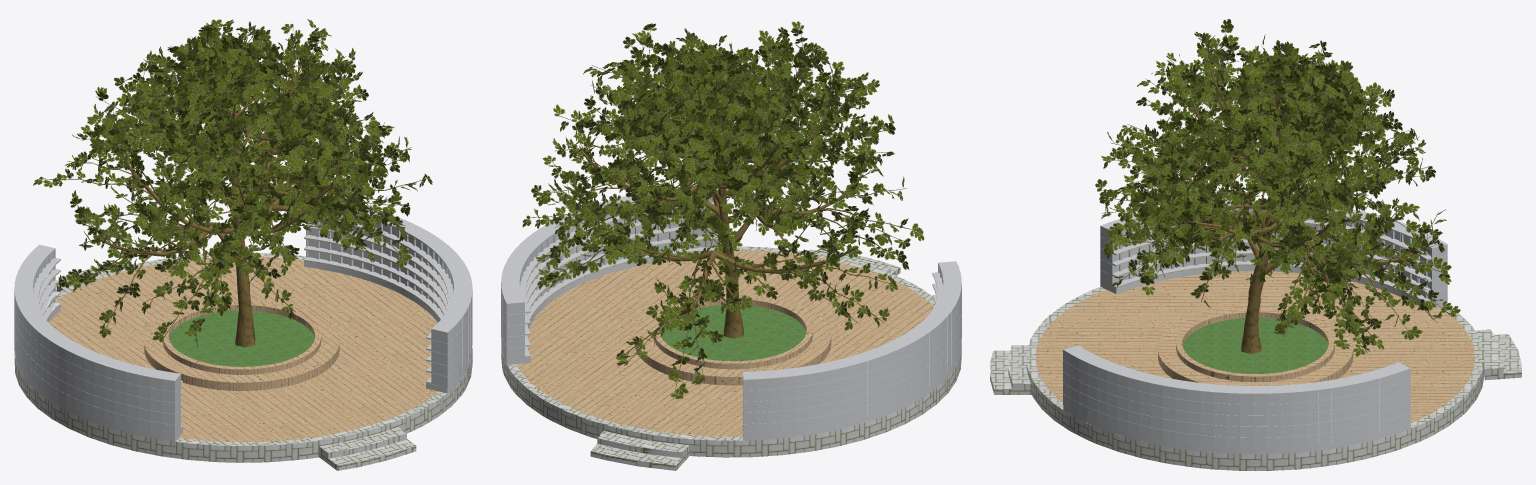
Rendered from CIRCLES NICHES.glb.
3 renders of one model, left to right at view 1: azimuth 30°, elevation 25°; view 2: azimuth 150°, elevation 25°; view 3: azimuth 270°, elevation 25°, orthographic.
Parts seen in each view (by area): view 1: SketchUp.5383, SketchUp.017, SketchUp.018, SketchUp.321, SketchUp.015, SketchUp.320, SketchUp.817; view 2: SketchUp.5383, SketchUp.017, SketchUp.018, SketchUp.015, SketchUp.321, SketchUp.320, SketchUp.817; view 3: SketchUp.5383, SketchUp.018, SketchUp.017, SketchUp.015, SketchUp.321, SketchUp.320.
Boxes of the visible parts, bbox=[...] form: SketchUp.5383: bbox=[33, 19, 432, 347]; SketchUp.017: bbox=[49, 257, 438, 442]; SketchUp.018: bbox=[14, 209, 472, 441]; SketchUp.321: bbox=[39, 27, 430, 347]; SketchUp.015: bbox=[14, 252, 472, 470]; SketchUp.320: bbox=[169, 310, 314, 366]; SketchUp.817: bbox=[38, 223, 447, 317]; SketchUp.5383: bbox=[522, 21, 924, 399]; SketchUp.017: bbox=[516, 250, 933, 436]; SketchUp.018: bbox=[501, 188, 961, 440]; SketchUp.015: bbox=[501, 246, 961, 470]; SketchUp.321: bbox=[529, 27, 921, 399]; SketchUp.320: bbox=[659, 304, 806, 361]; SketchUp.817: bbox=[525, 206, 937, 353]; SketchUp.5383: bbox=[1095, 19, 1460, 356]; SketchUp.018: bbox=[1063, 200, 1447, 454]; SketchUp.017: bbox=[1036, 271, 1475, 422]; SketchUp.015: bbox=[990, 286, 1521, 470]; SketchUp.321: bbox=[1101, 33, 1449, 353]; SketchUp.320: bbox=[1182, 317, 1328, 373].
Bounding box in the file's own units: 15.01 × 11.9 × 17.41.
9 materials, 7 textured.
